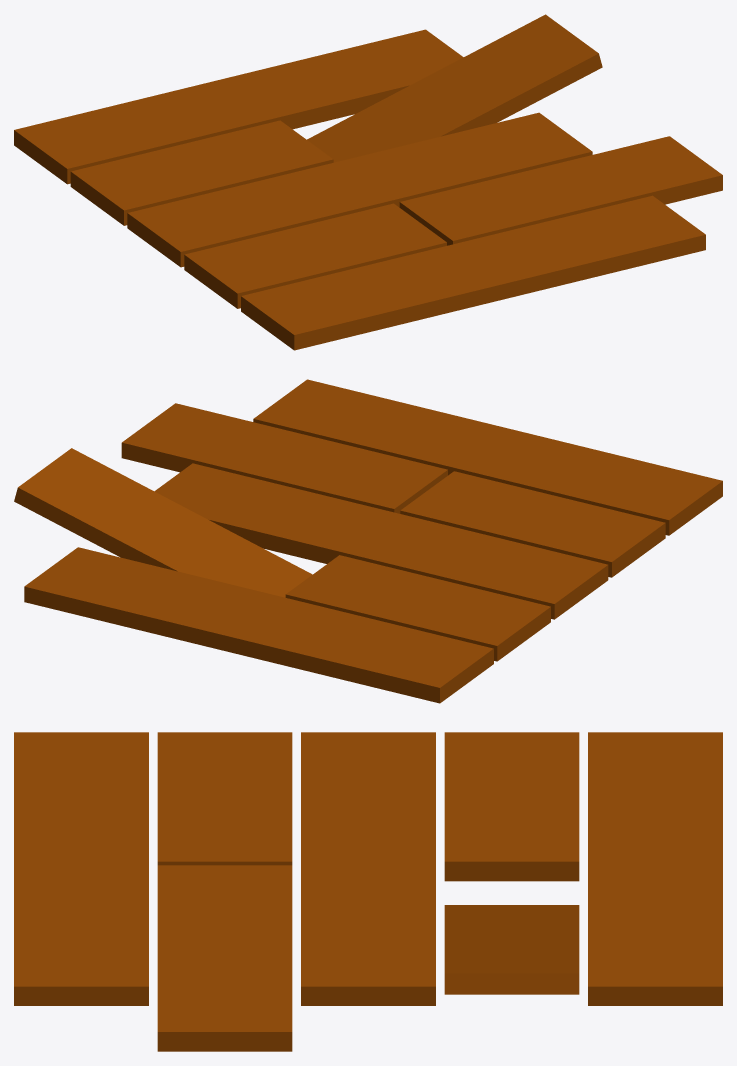
Rendered from RPG_Tiles_Square_Wooden_Boards_03.FBX.
3 views of the same model, one above another, from view 1: azimuth 30°, elevation 25°; view 2: azimuth 150°, elevation 25°; view 3: azimuth 270°, elevation 25° (orthographic). The views are drawn at different scales.
Visible parts, largest first — view 1: RPG_Tiles_Square_Wooden_Boards_03; view 2: RPG_Tiles_Square_Wooden_Boards_03; view 3: RPG_Tiles_Square_Wooden_Boards_03.
Part boxes in pixels (box(x1,y1,x2,y2)): RPG_Tiles_Square_Wooden_Boards_03: box(14, 14, 722, 350); RPG_Tiles_Square_Wooden_Boards_03: box(14, 379, 722, 703); RPG_Tiles_Square_Wooden_Boards_03: box(14, 732, 722, 1051).
Size of the model in its own units: 2964 by 513 by 2964.
